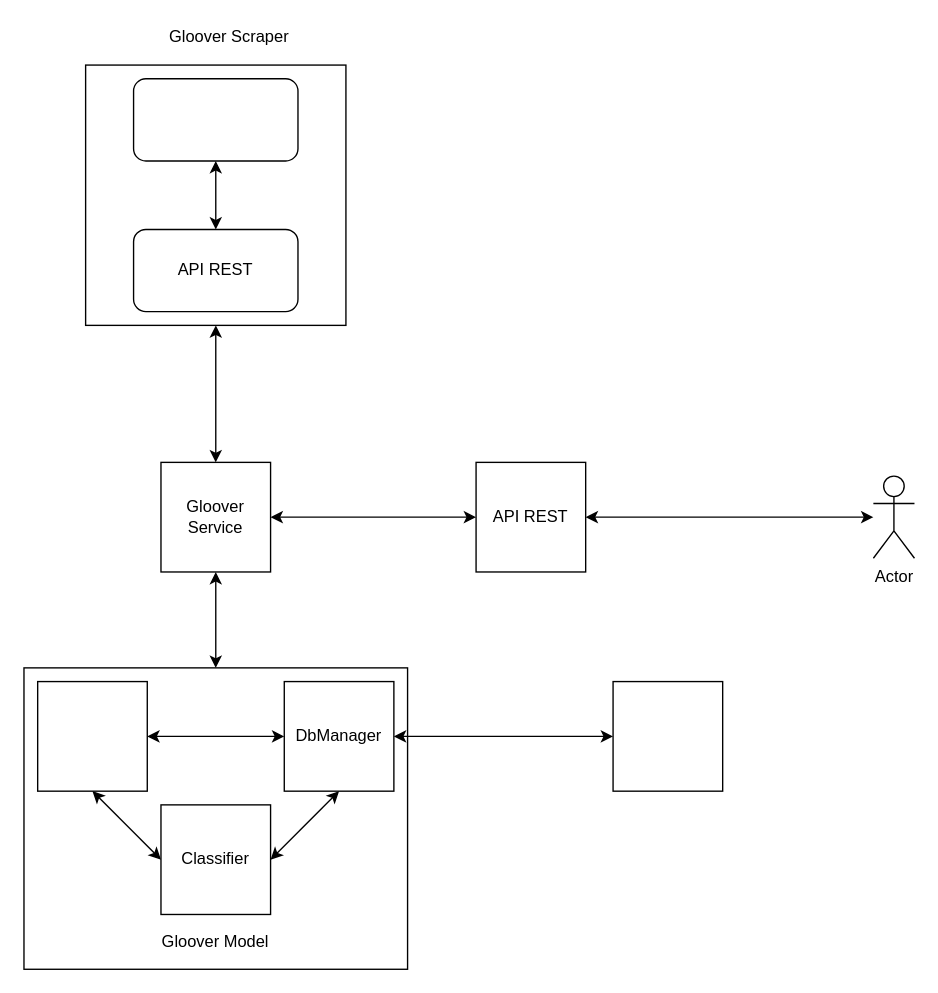
Some shapes in this 938 by 993 pixel diagram are drawn without their labels. The shapes that lost their labels are listed below. From the top down, each one's box as (x1, y1, x2, y2) in pixels, then its label:
(132, 77, 298, 161): Scraper
(36, 680, 147, 791): Feature Extractor
(612, 680, 723, 791): Mongo
